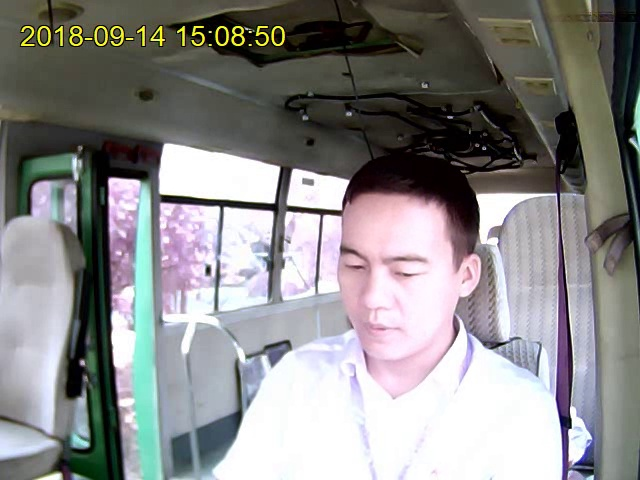closed_mouth: (362, 319, 404, 338)
